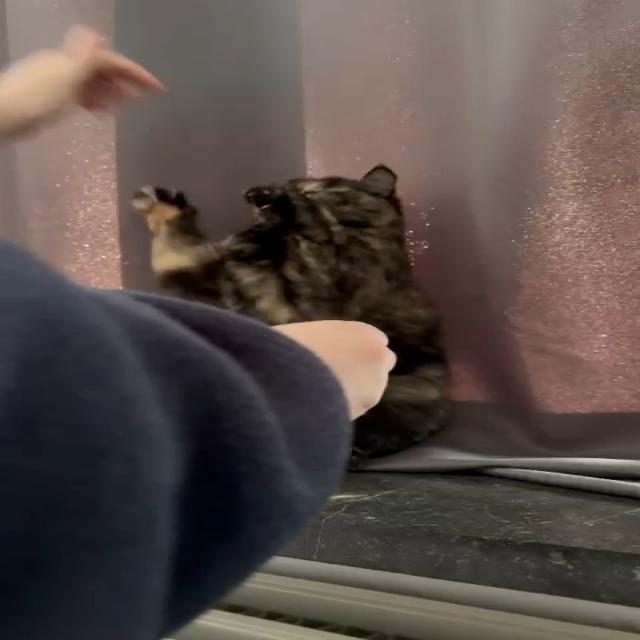authorized: (130, 162, 454, 464)
